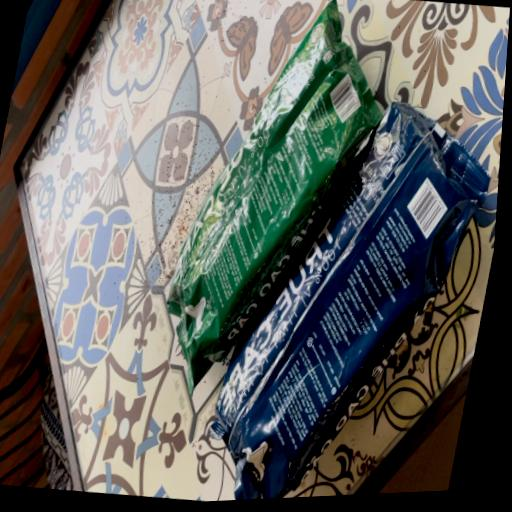cafe_hat: (212, 101, 489, 500)
cafe_xay: (168, 0, 382, 392)
